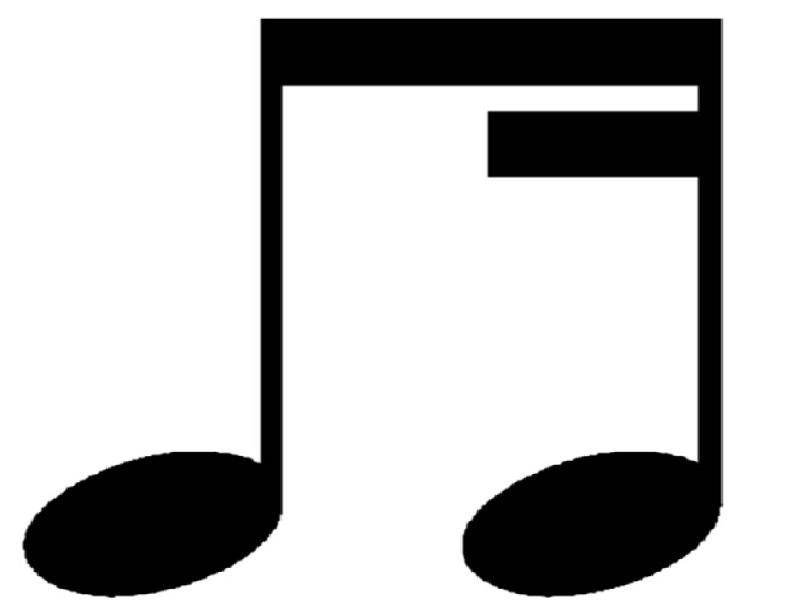C: (21, 12, 459, 592)
SC: (462, 12, 733, 599)
